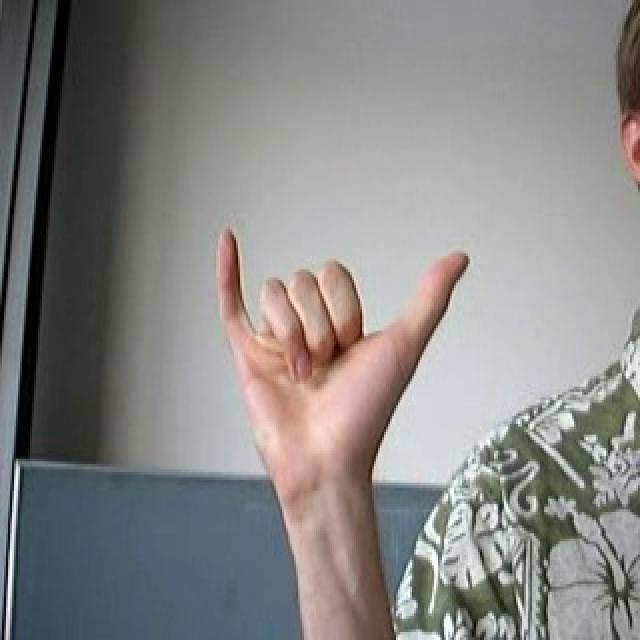Y: (174, 201, 489, 506)
